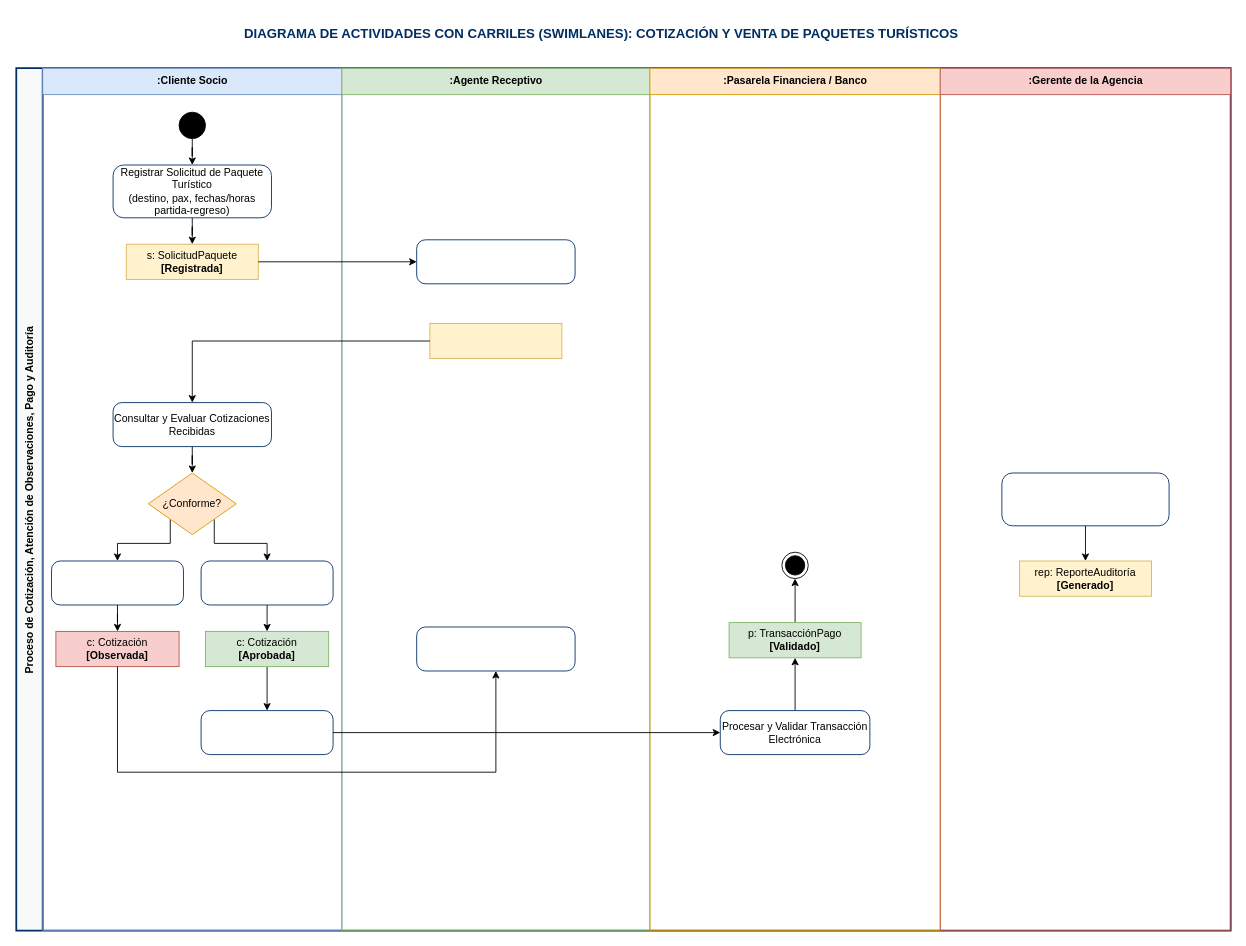
The diagram is 1246 pixels wide and 946 high, and some of its shapes have lost their labels. Here are the shapes that lost their labels. From the top down, the centre of each, then its label:
the point at 495,261: Elaborar y Presupuestar Cotización por Paquete
the point at 495,341: c: Cotización [Emitida]
the point at 1085,499: Consultar Cotizaciones Canceladas y Observadas por Rango de Fechas
the point at 117,582: Registrar Observación a la Cotización
the point at 266,582: Registrar Aprobación de Cotización
the point at 495,648: Revisar y Subsanar Observaciones Técnicas/Costos
the point at 266,732: Registrar Pago de Cotización Aceptada
